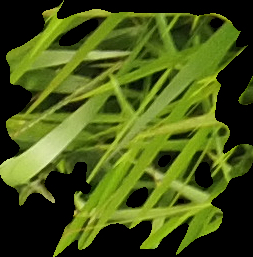grass: (1, 1, 252, 256)
